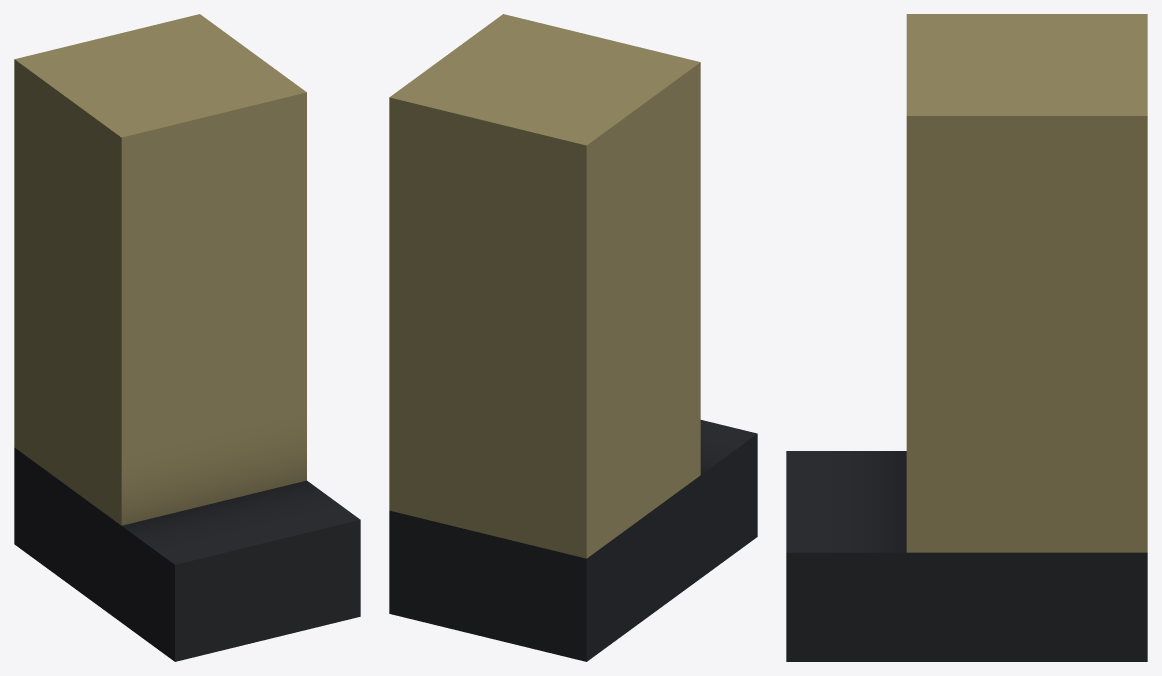
File: cm_leg_w.glb
3 views of the same model, side by side, from view 1: azimuth 30°, elevation 25°; view 2: azimuth 150°, elevation 25°; view 3: azimuth 270°, elevation 25° (orthographic). The views are drawn at different scales.
Parts seen in each view (by area): view 1: cm_leg_w_body; view 2: cm_leg_w_body; view 3: cm_leg_w_body.
Part boxes in pixels (x1,y1,x2,y2): cm_leg_w_body: (14, 14, 360, 661); cm_leg_w_body: (389, 14, 757, 661); cm_leg_w_body: (786, 14, 1147, 661).
Bounding box in the file's own units: 0.125 × 0.3125 × 0.1875.
Materials: 1 (1 with a texture image).
